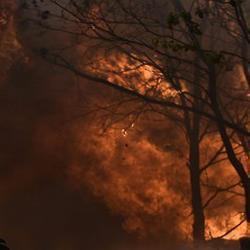fire: (107, 56, 168, 91), (207, 211, 245, 241)
